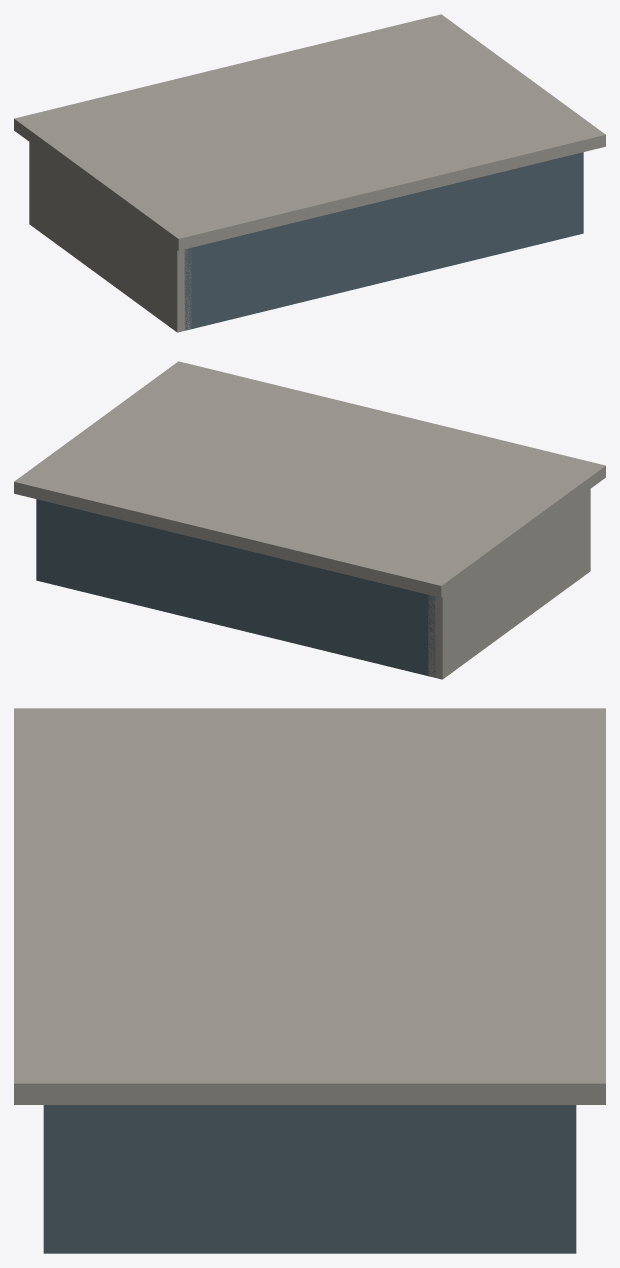
File: olympic_sculpture_park.glb
3 renders of one model, top to bottom at view 1: azimuth 30°, elevation 25°; view 2: azimuth 150°, elevation 25°; view 3: azimuth 270°, elevation 25°, orthographic. The views are drawn at different scales.
Visible parts, largest first — view 1: olympic_sculpture_park; view 2: olympic_sculpture_park; view 3: olympic_sculpture_park.
Part boxes in pixels (<box>): olympic_sculpture_park: <box>14,14,605,332</box>; olympic_sculpture_park: <box>14,361,605,679</box>; olympic_sculpture_park: <box>14,708,605,1253</box>.
Bounding box in the file's own units: 30 × 6.8 × 20.
1 material, 1 textured.
